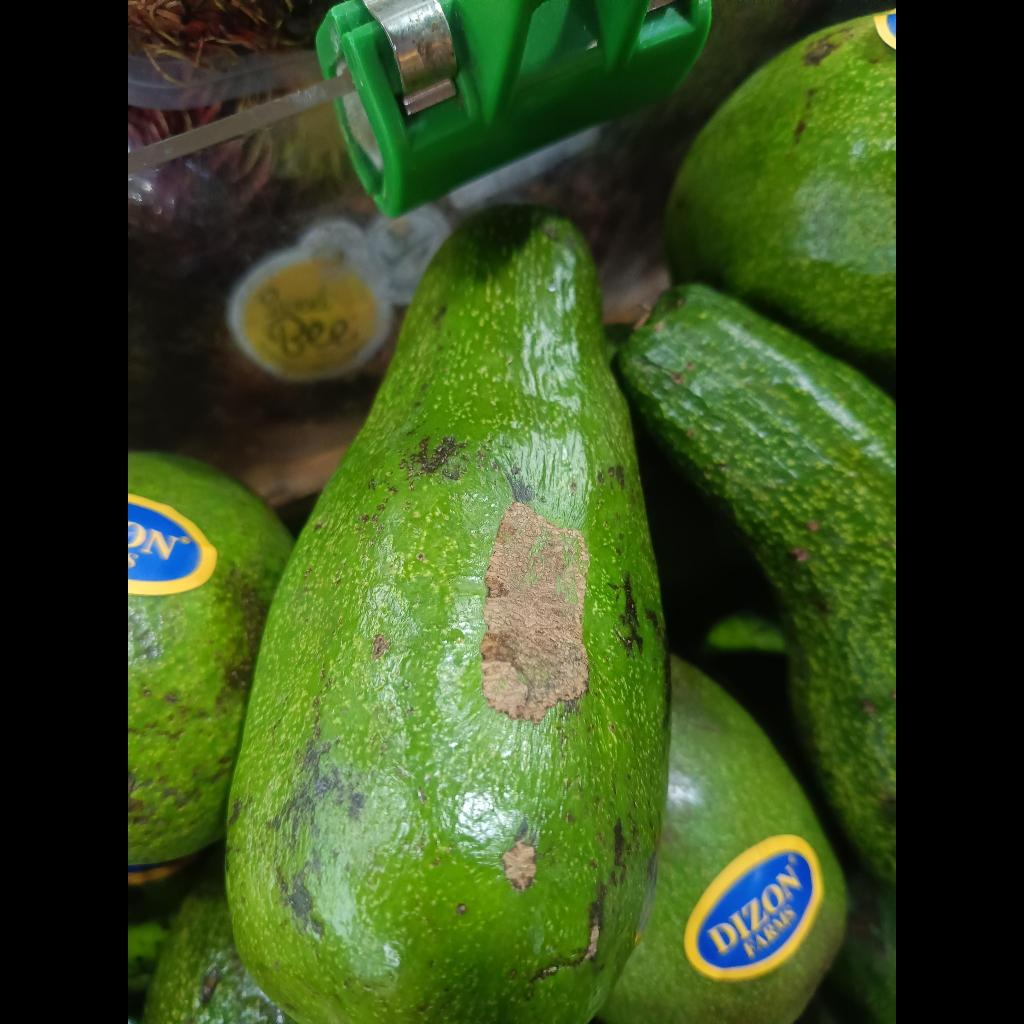scab: (227, 206, 668, 1024)
